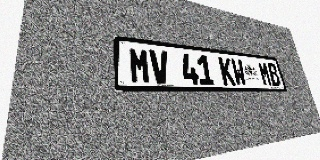1: (195, 54, 214, 85)
4: (180, 53, 200, 85)
B: (266, 62, 281, 86)
K: (218, 57, 236, 85)
M: (128, 47, 151, 84), (257, 61, 273, 86)
V: (149, 49, 170, 84)
W: (230, 58, 247, 86)
